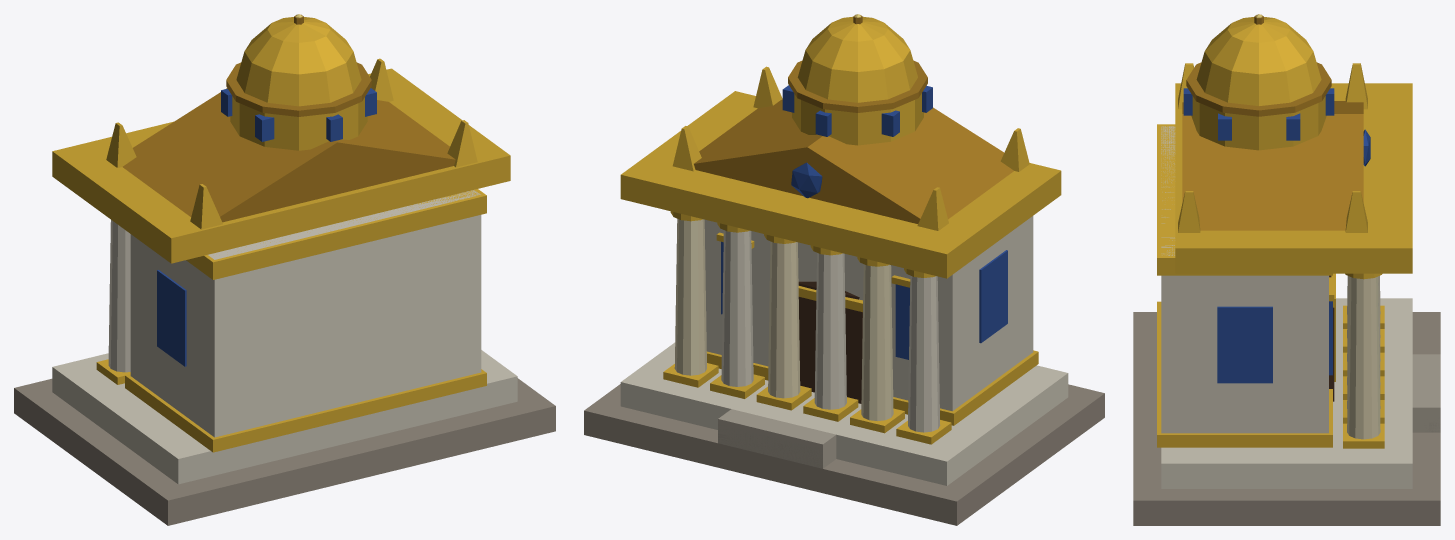
Rendered from Decor_DogeAltar_Hall.fbx.
3 views of the same model, side by side, from view 1: azimuth 30°, elevation 25°; view 2: azimuth 150°, elevation 25°; view 3: azimuth 270°, elevation 25° (orthographic). The views are drawn at different scales.
Parts seen in each view (by area): view 1: Hall_Body; view 2: Hall_Body; view 3: Hall_Body.
Part boxes in pixels (x1=…): Hall_Body: x1=14, y1=14, x2=555, y2=525; Hall_Body: x1=584, y1=14, x2=1104, y2=525; Hall_Body: x1=1133, y1=14, x2=1440, y2=525.
Bounding box in the file's own units: 32 × 33 × 22.
